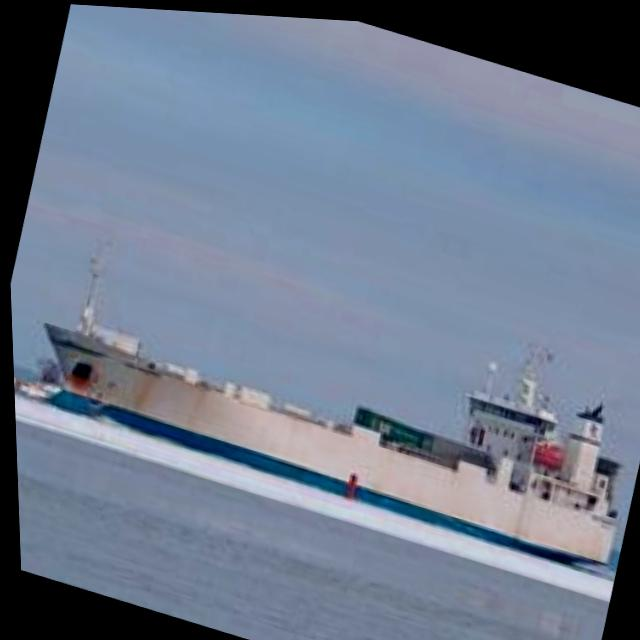ship2: (40, 243, 616, 564)
